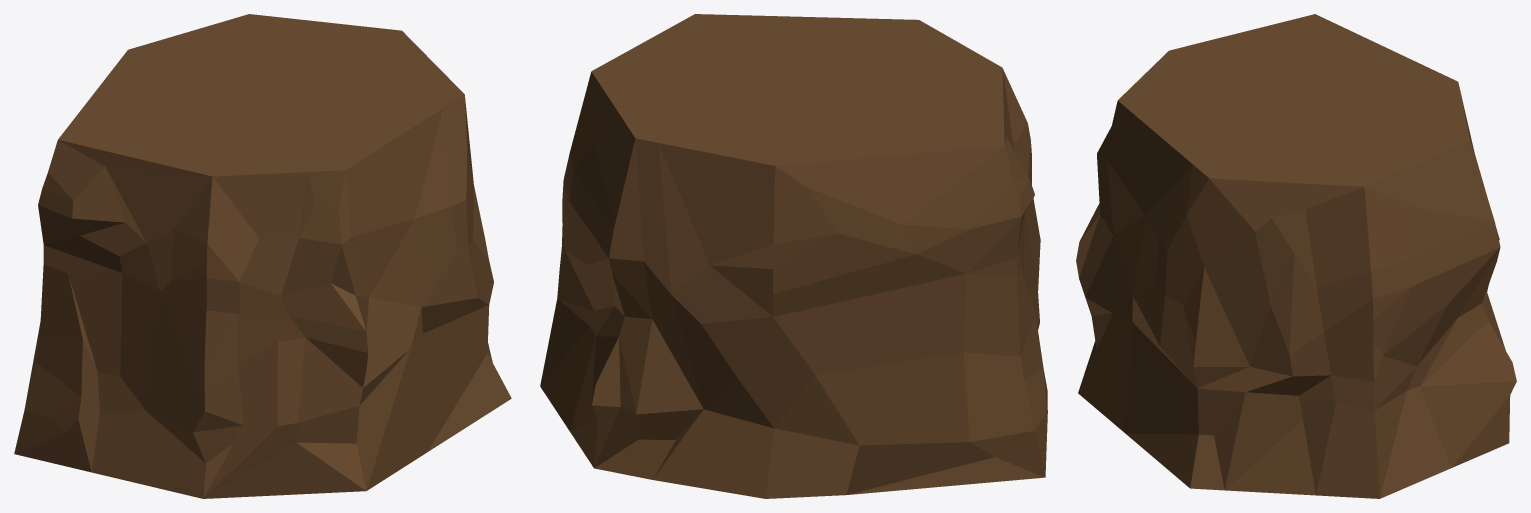
File: MesaRock.fbx
The picture shows the model from 3 angles, left to right: view 1: azimuth 30°, elevation 25°; view 2: azimuth 150°, elevation 25°; view 3: azimuth 270°, elevation 25°; orthographic projection. The views are drawn at different scales.
Parts seen in each view (by area): view 1: MesaRock; view 2: MesaRock; view 3: MesaRock.
Boxes of the visible parts, x1,y1,x2,y2 form: MesaRock: (14, 14, 511, 498); MesaRock: (540, 14, 1047, 498); MesaRock: (1076, 14, 1516, 498).
Size of the model in its own units: 7.56 by 4.89 by 6.66.
